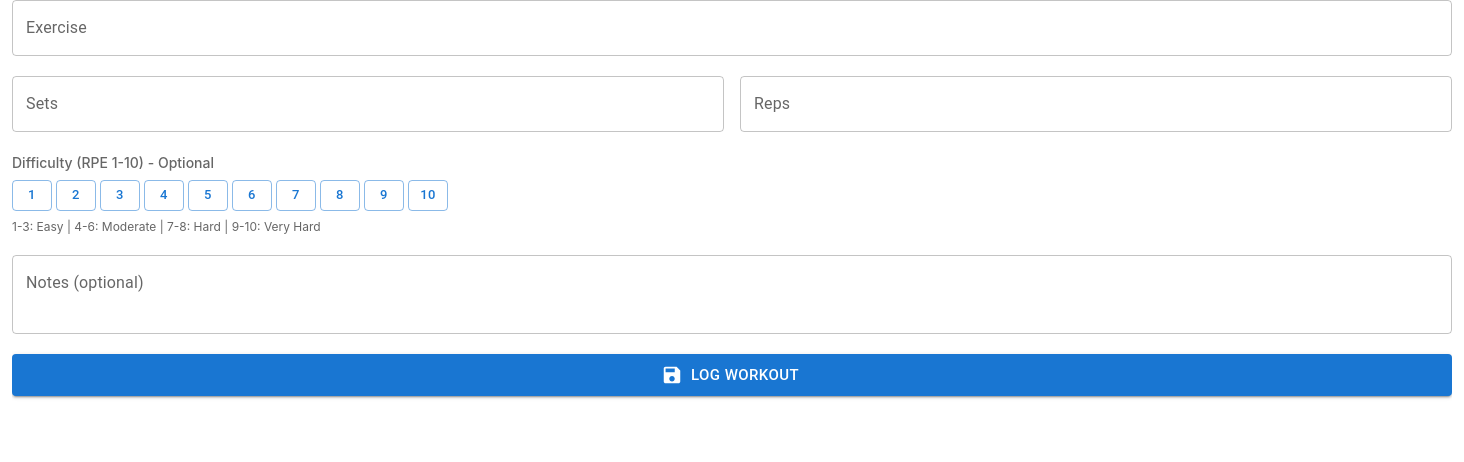
it: WorkoutForm › Validation › displays error when exercise name is empty
Click the button "Log Workout" at (732, 375), box [12,354,1452,396]
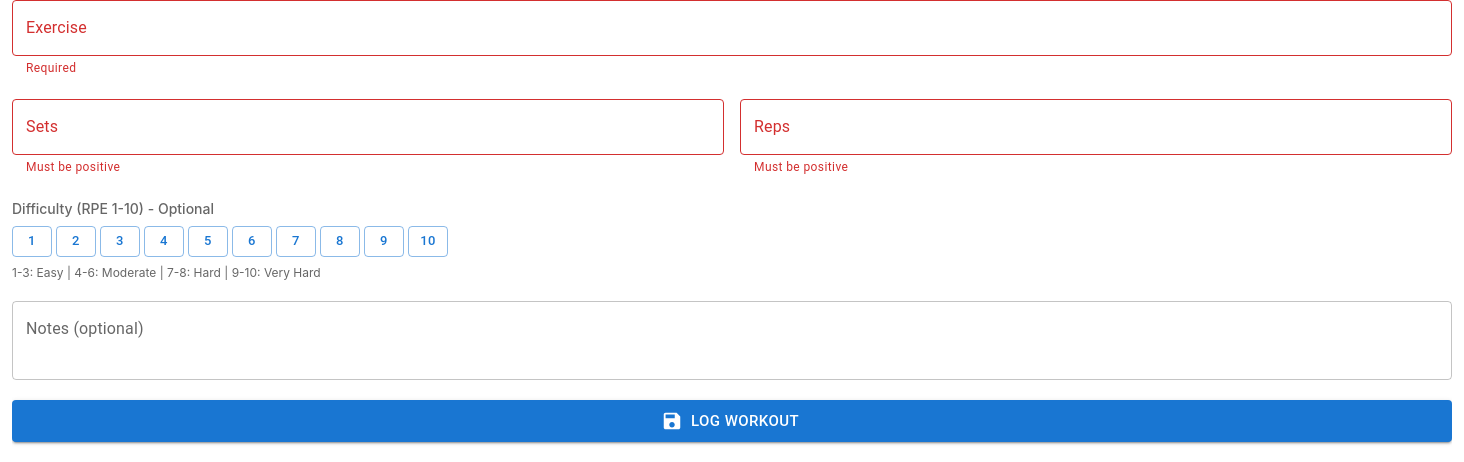
expect the text "Required" is shown: met, box [26,61,76,75]
